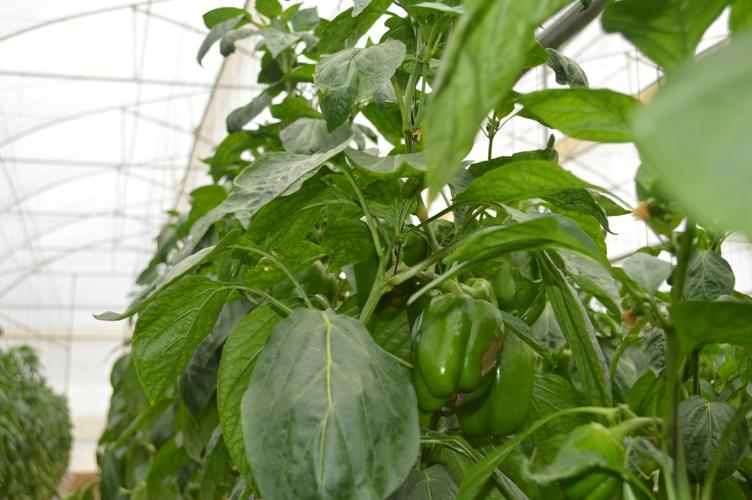BellPepper: (403, 298, 502, 407), (446, 329, 532, 434), (349, 220, 421, 302), (491, 263, 545, 327), (410, 279, 499, 314), (279, 261, 337, 301)
